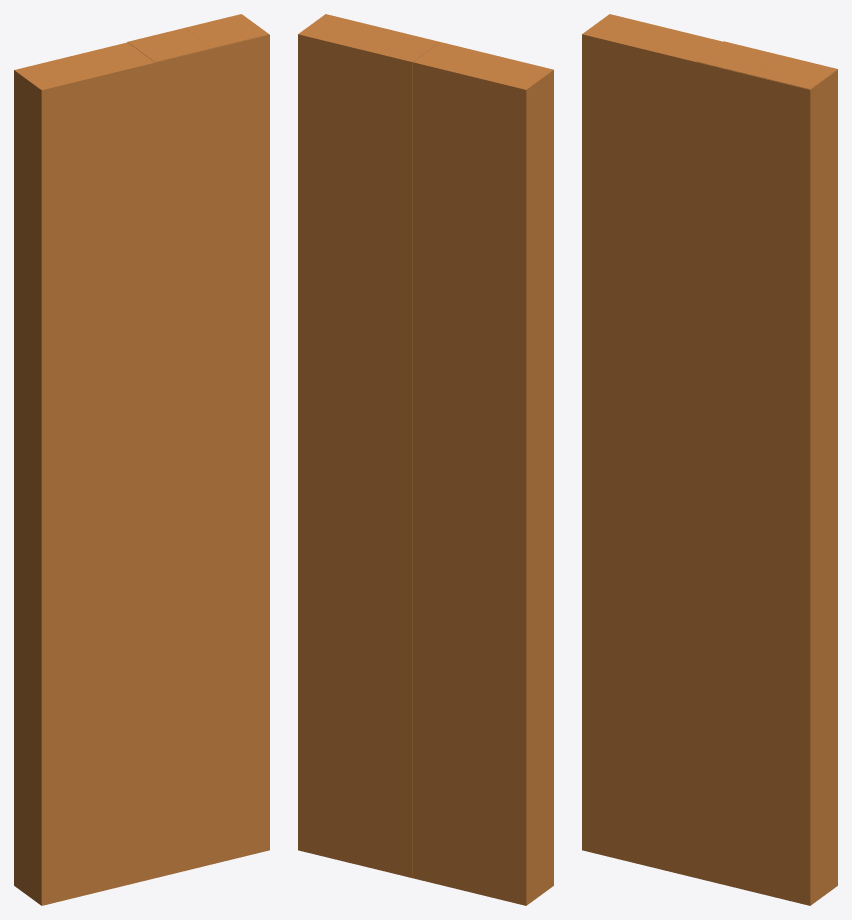
Rendered from plank_palm.fbx.
3 renders of one model, left to right at view 1: azimuth 30°, elevation 25°; view 2: azimuth 150°, elevation 25°; view 3: azimuth 330°, elevation 25°, orthographic.
Visible parts, largest first — view 1: plank, nail3, nail_parent1, nail, nail4.001, nail2.001, nail.002, nail_parent4; view 2: plank, nail.002, nail2.003, nail3.002, nail_parent4, nail_parent1, nail, nail2.001, nail4.003, nail4.001, nail3, nail_parent2 (+1 smaller); view 3: plank, nail3, nail2.001, nail4.001, nail, nail_parent2, nail_parent1, nail.002, nail_parent4.
Part boxes in pixels (left/top/right/bottom): plank: left=14, top=15, right=269, bottom=905; nail3: left=14, top=486, right=98, bottom=905; nail_parent1: left=21, top=78, right=98, bottom=905; nail: left=14, top=73, right=98, bottom=497; nail4.001: left=98, top=470, right=155, bottom=891; nail2.001: left=98, top=63, right=155, bottom=484; nail.002: left=127, top=28, right=211, bottom=62; nail_parent4: left=185, top=14, right=268, bottom=48; plank: left=300, top=14, right=553, bottom=905; nail.002: left=355, top=28, right=439, bottom=469; nail2.003: left=298, top=34, right=355, bottom=455; nail3.002: left=355, top=457, right=412, bottom=877; nail_parent4: left=298, top=14, right=382, bottom=855; nail_parent1: left=469, top=78, right=553, bottom=897; nail: left=469, top=71, right=553, bottom=497; nail2.001: left=412, top=63, right=469, bottom=481; nail4.003: left=298, top=504, right=355, bottom=863; nail4.001: left=412, top=471, right=469, bottom=891; nail3: left=469, top=482, right=553, bottom=903; nail_parent2: left=412, top=63, right=469, bottom=483; plank: left=582, top=14, right=837, bottom=905; nail3: left=582, top=442, right=638, bottom=862; nail2.001: left=638, top=49, right=695, bottom=469; nail4.001: left=638, top=457, right=695, bottom=875; nail: left=582, top=37, right=638, bottom=455; nail_parent2: left=638, top=48, right=695, bottom=469; nail_parent1: left=582, top=42, right=638, bottom=860; nail.002: left=696, top=41, right=780, bottom=75; nail_parent4: left=753, top=55, right=837, bottom=89.
Bounding box in the file's own units: 18.2 × 62.19 × 3.87.
